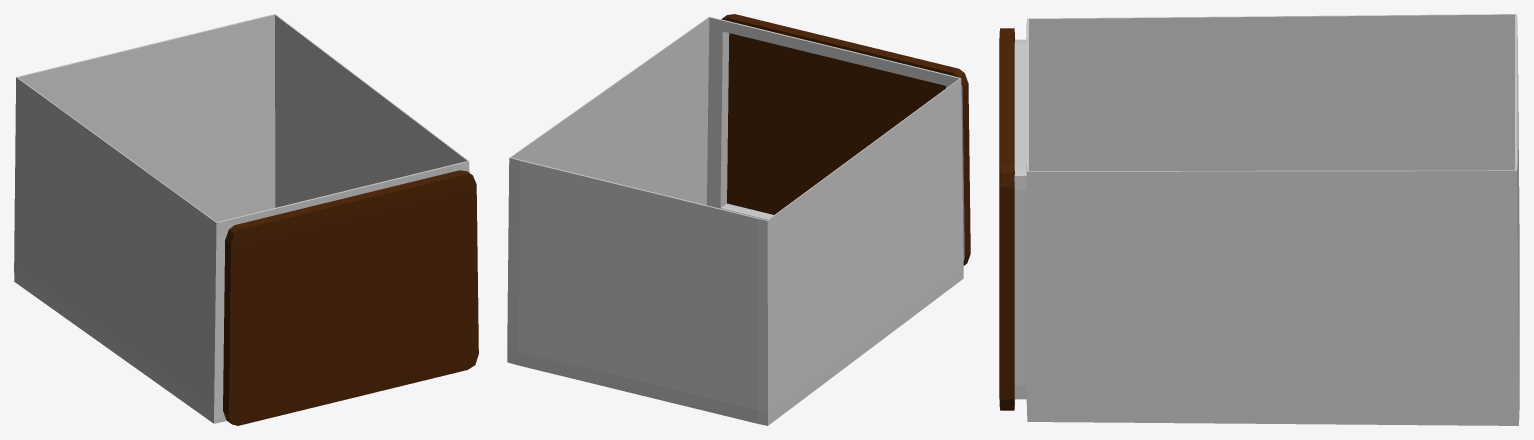
Rendered from drawer2.glb.
3 renders of one model, left to right at view 1: azimuth 30°, elevation 25°; view 2: azimuth 150°, elevation 25°; view 3: azimuth 270°, elevation 25°, orthographic. The views are drawn at different scales.
Parts seen in each view (by area): view 1: Cube.038; view 2: Cube.038; view 3: Cube.038.
Boxes of the visible parts, left/top/right/bottom form: Cube.038: left=14, top=14, right=478, bottom=425; Cube.038: left=507, top=14, right=970, bottom=425; Cube.038: left=999, top=14, right=1519, bottom=425.
Size of the model in its own units: 1.49 by 1.12 by 2.07.
